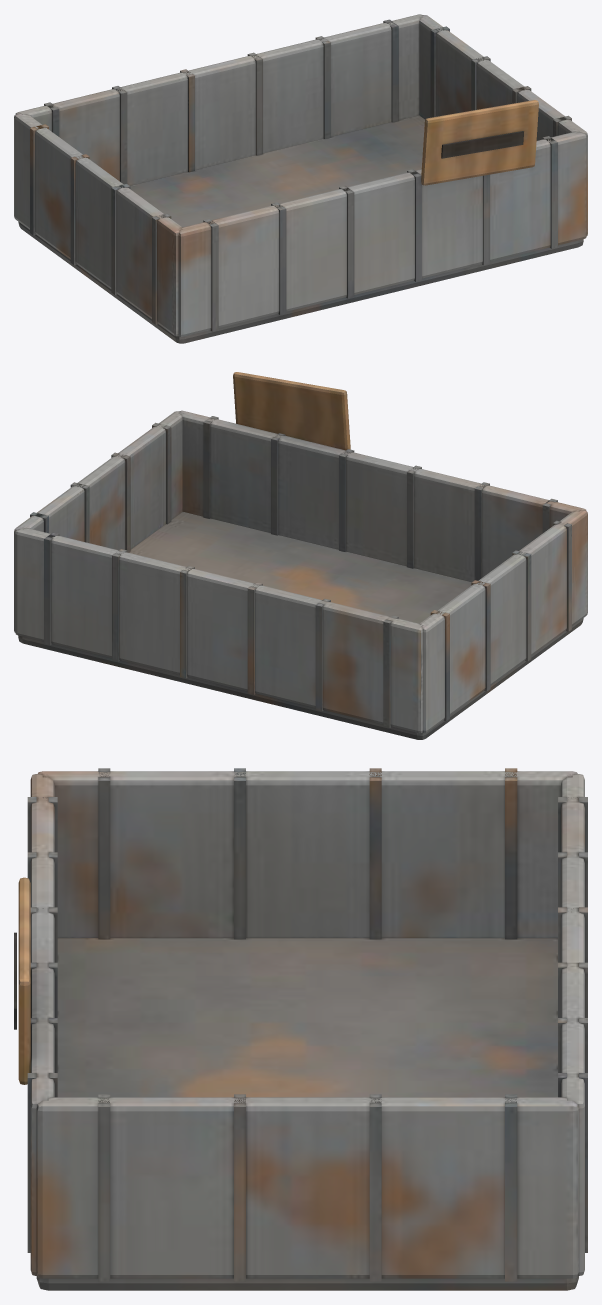
The model's file is magnet_bin.glb.
3 renders of one model, top to bottom at view 1: azimuth 30°, elevation 25°; view 2: azimuth 150°, elevation 25°; view 3: azimuth 270°, elevation 25°, orthographic. The views are drawn at different scales.
Visible parts, largest first — view 1: MagnetBin_Mesh; view 2: MagnetBin_Mesh; view 3: MagnetBin_Mesh.
Part boxes in pixels (<box>): MagnetBin_Mesh: <box>14,14,587,343</box>; MagnetBin_Mesh: <box>14,372,587,739</box>; MagnetBin_Mesh: <box>14,768,587,1290</box>.
Bounding box in the file's own units: 1.33 × 0.5217 × 0.9525.
Materials: 1 (1 with a texture image).
